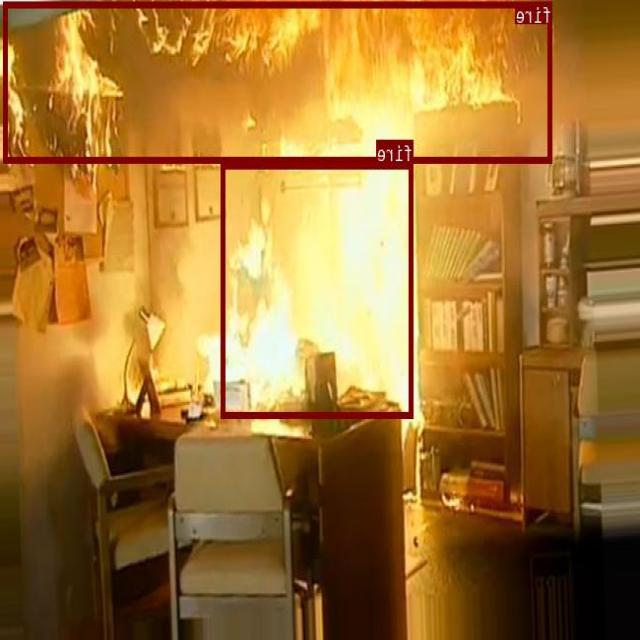fire: (5, 0, 552, 162), (222, 162, 414, 417)
